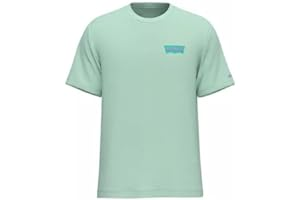design: (163, 44, 185, 54)
